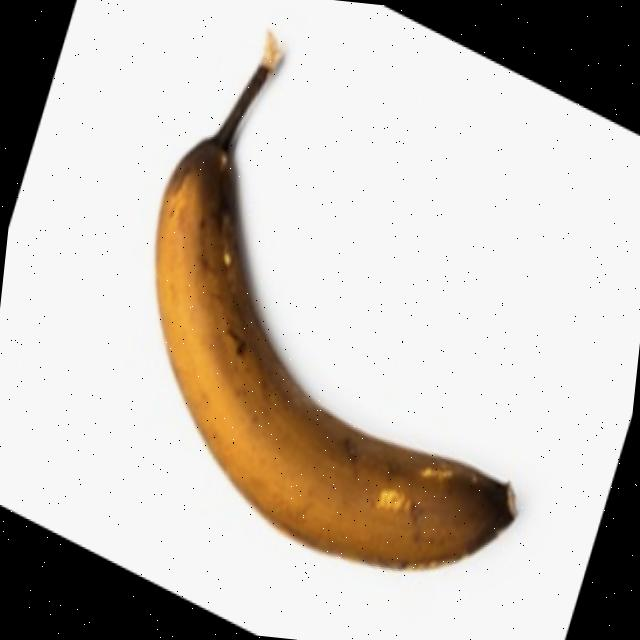overripe: (120, 58, 565, 583)
